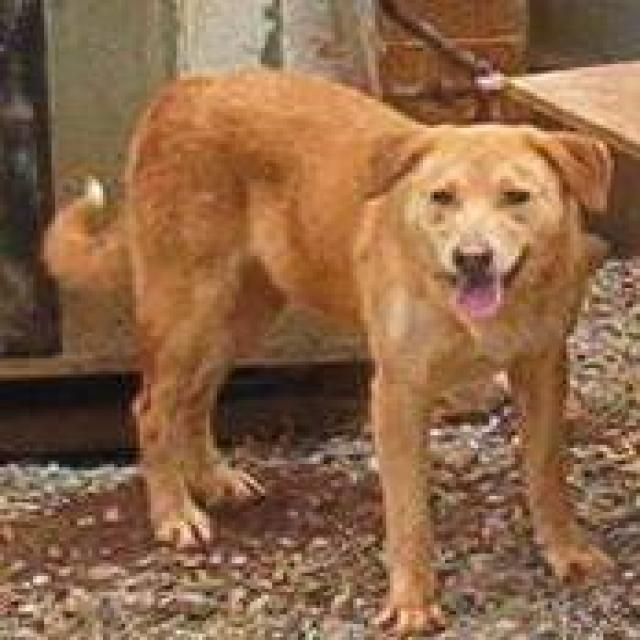dogs: (42, 23, 640, 640)
